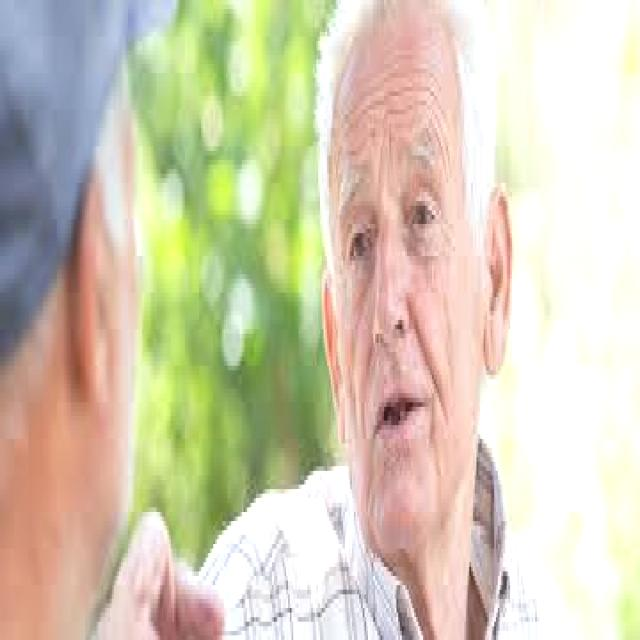normal_face: (328, 18, 487, 559)
